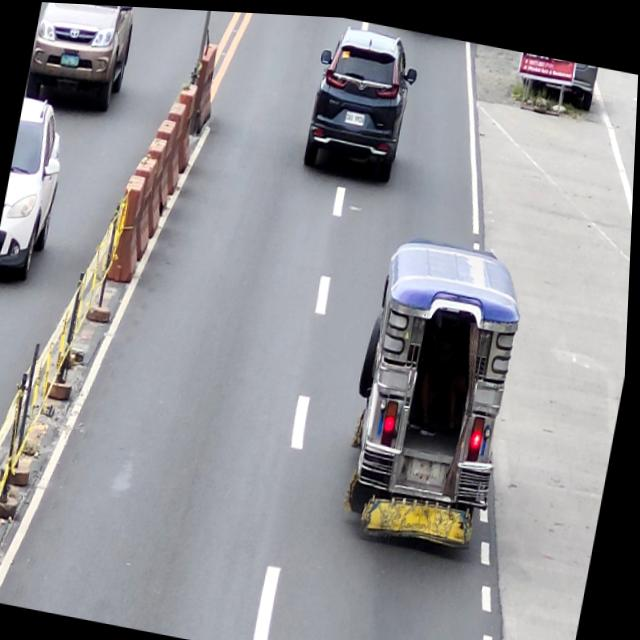Car: (300, 18, 424, 183)
Jeep: (338, 224, 535, 548)
License-Plate: (345, 106, 368, 124)
